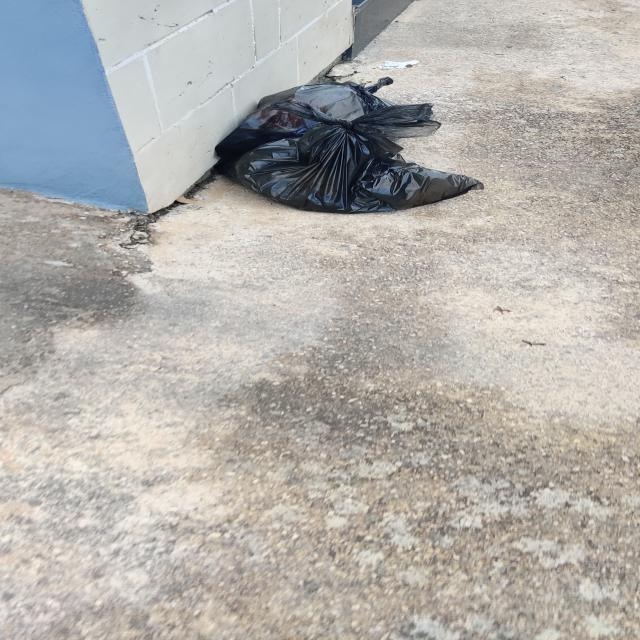Mixed Waste -Black Bags-: (216, 77, 488, 213)
